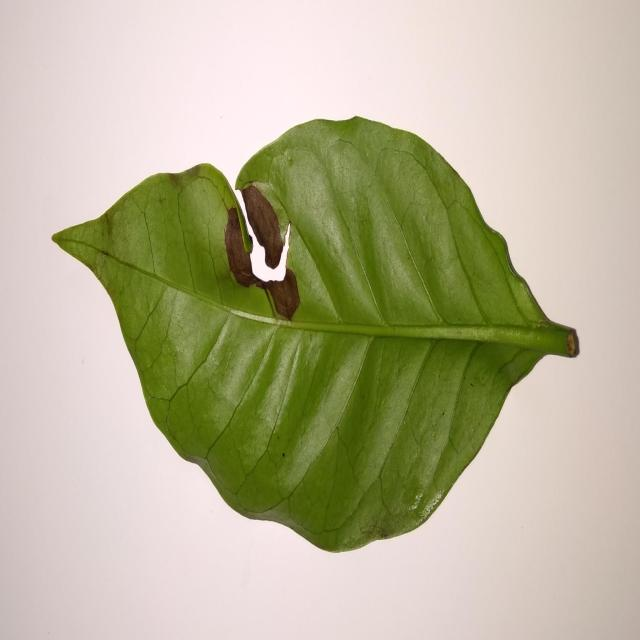Enfermedad-Antracnosis: (51, 119, 580, 556)
